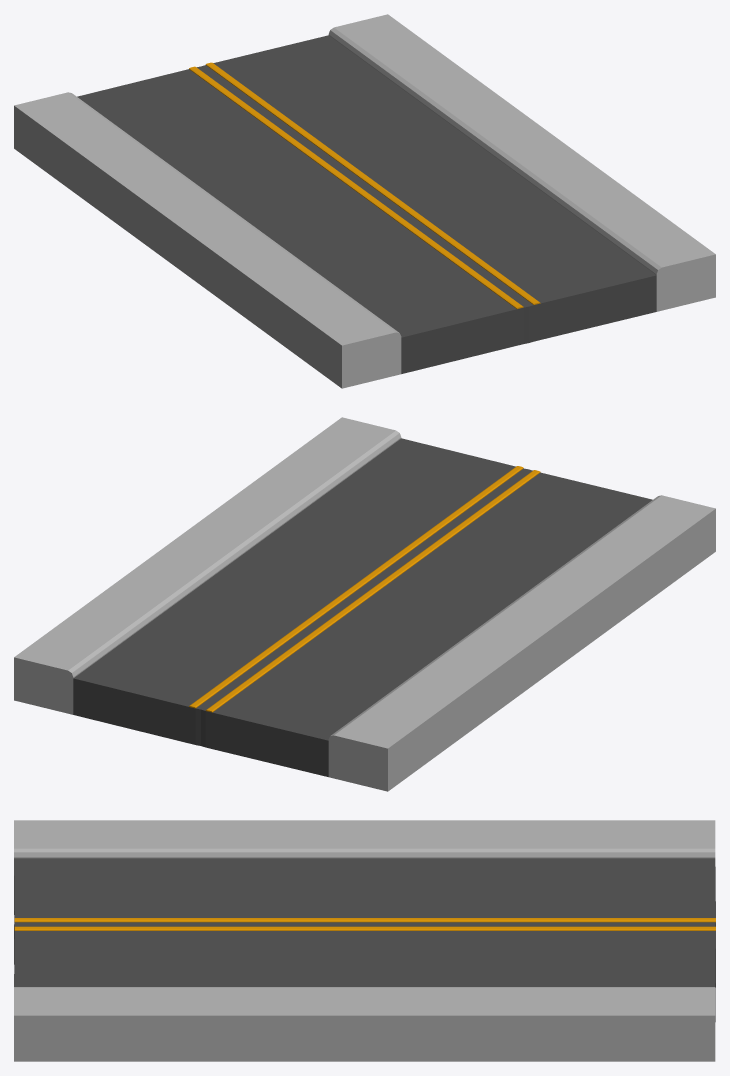
File: Road_01.fbx
The picture shows the model from 3 angles, top to bottom: view 1: azimuth 30°, elevation 25°; view 2: azimuth 150°, elevation 25°; view 3: azimuth 270°, elevation 25°; orthographic projection. The views are drawn at different scales.
Visible parts, largest first — view 1: Road; view 2: Road; view 3: Road.
Part boxes in pixels (box(x1,y1,x2,y2)): Road: box(14, 14, 715, 388); Road: box(14, 417, 715, 791); Road: box(14, 820, 715, 1061).
Size of the model in its own units: 3256 by 2142 by 236.
